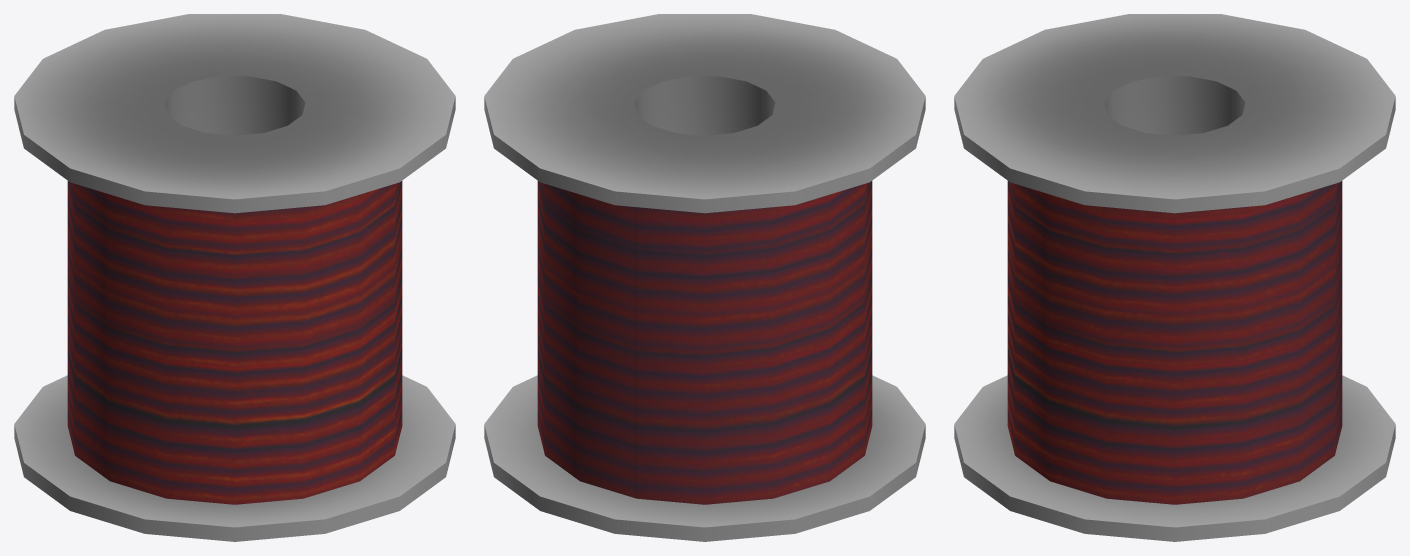
The model's file is red_wires.FBX.
3 views of the same model, side by side, from view 1: azimuth 30°, elevation 25°; view 2: azimuth 150°, elevation 25°; view 3: azimuth 270°, elevation 25° (orthographic).
Parts seen in each view (by area): view 1: red_wires; view 2: red_wires; view 3: red_wires.
Boxes of the visible parts, bbox=[...] form: red_wires: bbox=[14, 14, 455, 541]; red_wires: bbox=[484, 14, 925, 541]; red_wires: bbox=[954, 14, 1395, 541].
Bounding box in the file's own units: 53.46 × 46.03 × 53.76.
Materials: 1 (1 with a texture image).
